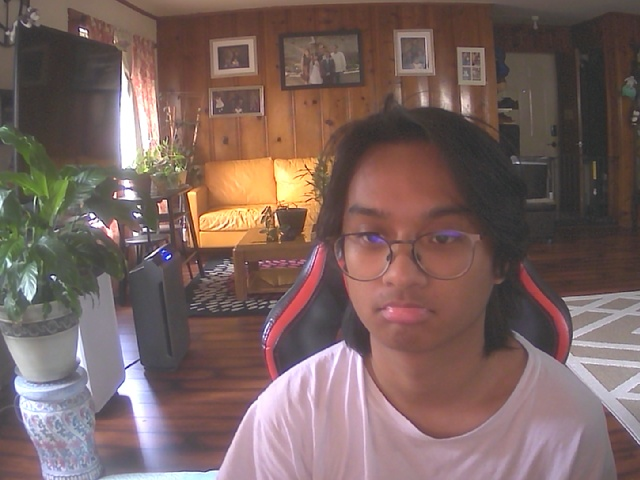sad: (323, 122, 516, 358)
